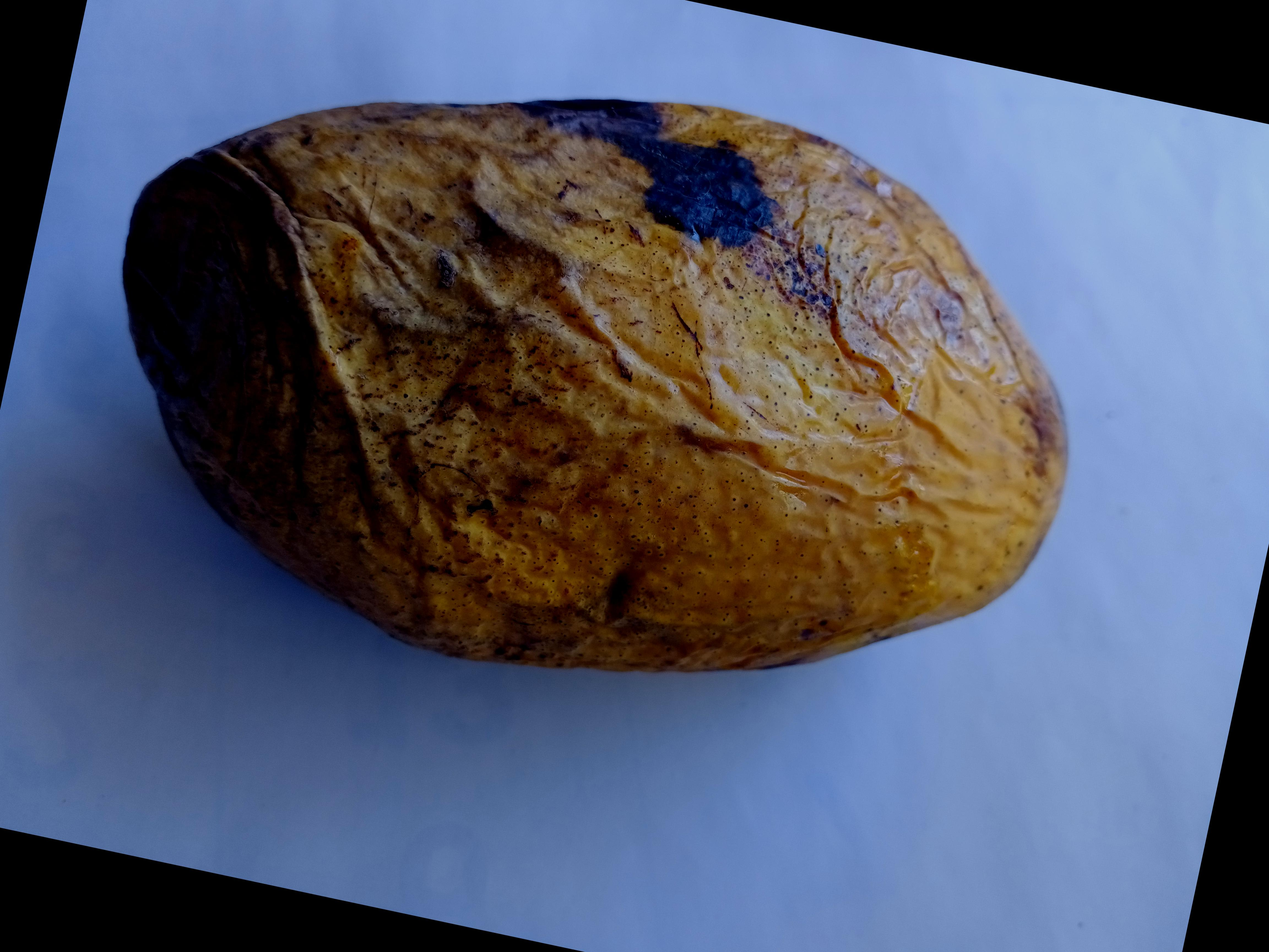Mango Overripe: (160, 0, 1269, 638)
